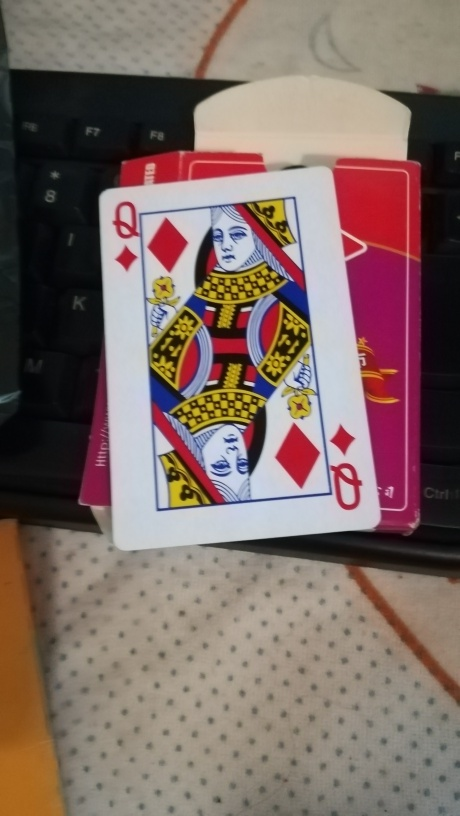fk q: (102, 168, 381, 551)
